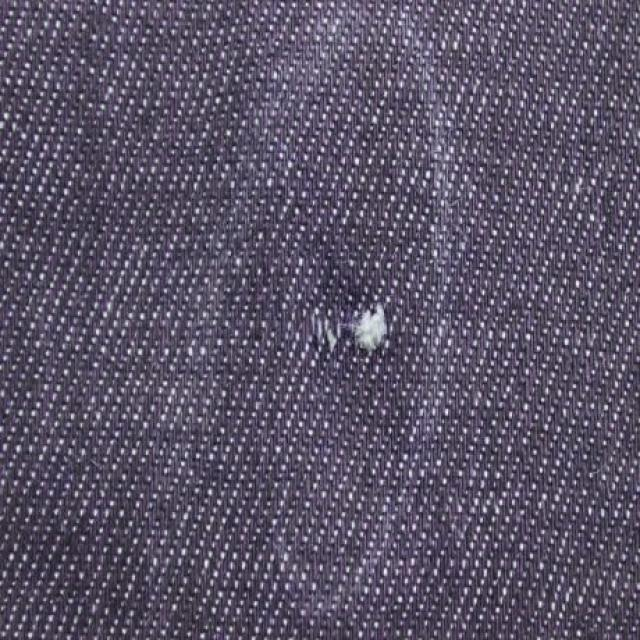Thread_other: (281, 246, 434, 430)
